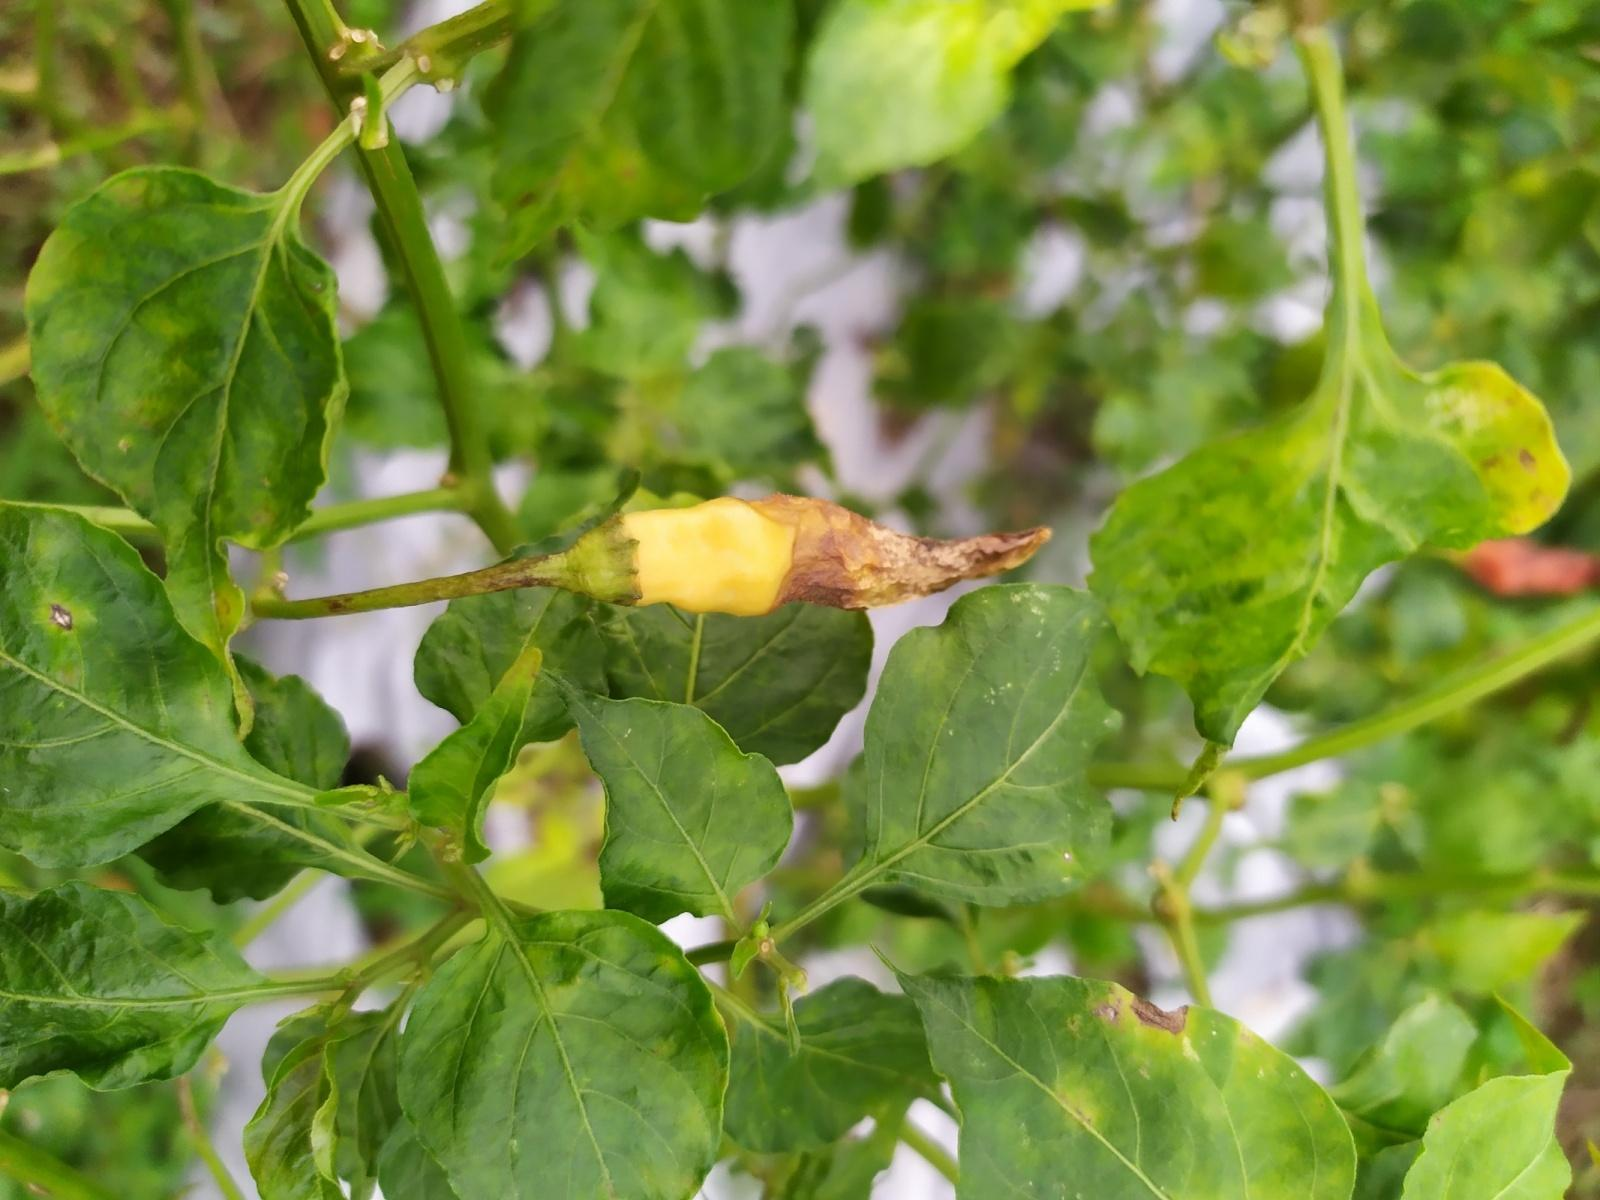antraknosa: (606, 494, 1051, 616)
